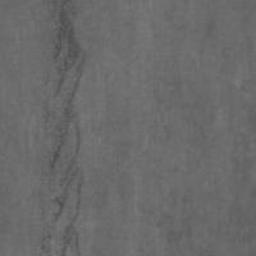Water spot: (49, 0, 87, 256)
